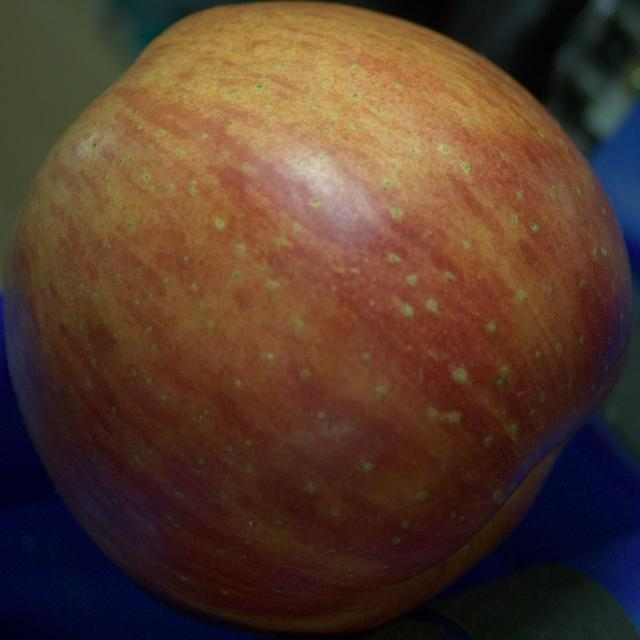apple: (4, 2, 631, 634)
